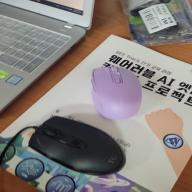mouse: (28, 115, 127, 175), (90, 62, 143, 122)
